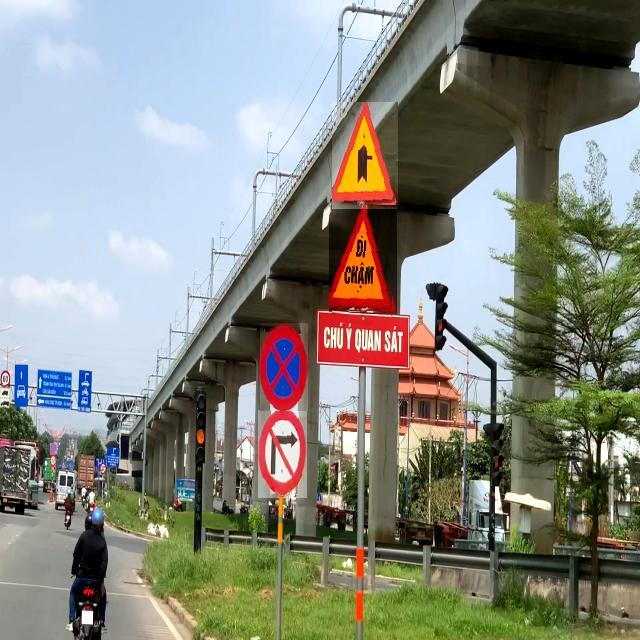P-123b: (258, 410, 307, 498)
P-127: (1, 370, 11, 388)
P-130: (260, 323, 308, 411), (50, 443, 57, 455)
W-207b: (332, 102, 398, 209)
W-245a: (329, 205, 397, 314)
